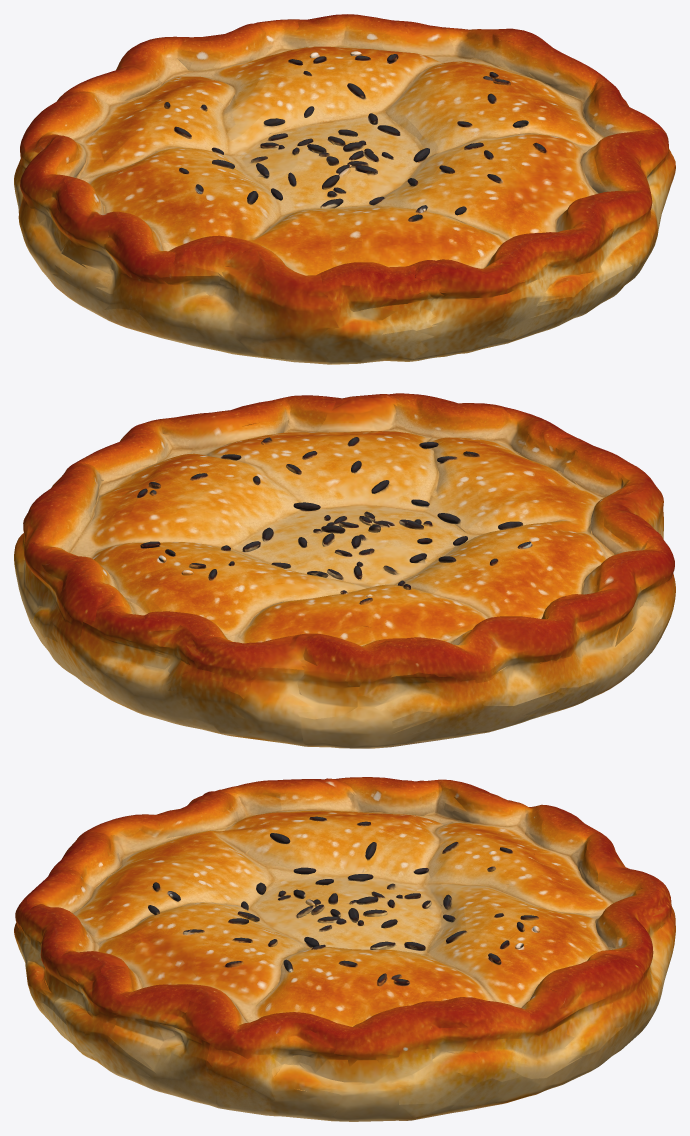
Rendered from pie-01a181.glb.
The picture shows the model from 3 angles, top to bottom: view 1: azimuth 30°, elevation 25°; view 2: azimuth 150°, elevation 25°; view 3: azimuth 270°, elevation 25°; orthographic projection.
Bounding box in the file's own units: 1.85 × 0.3311 × 1.9.
1 material, 1 textured.
